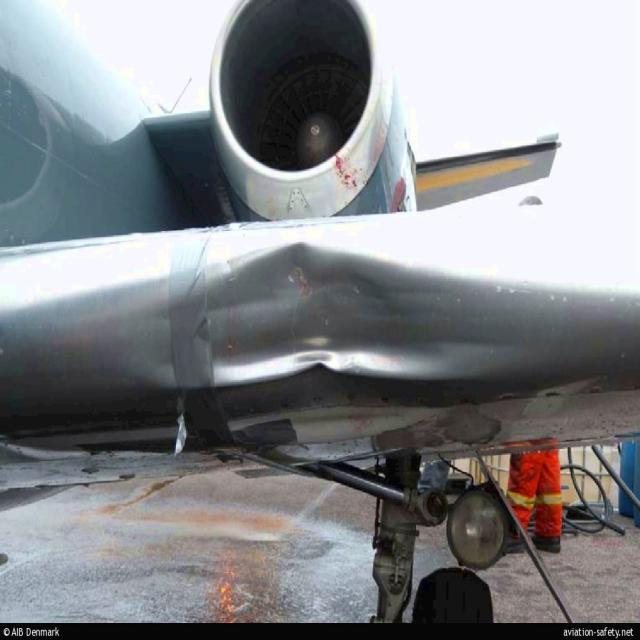dent: (147, 242, 529, 390)
